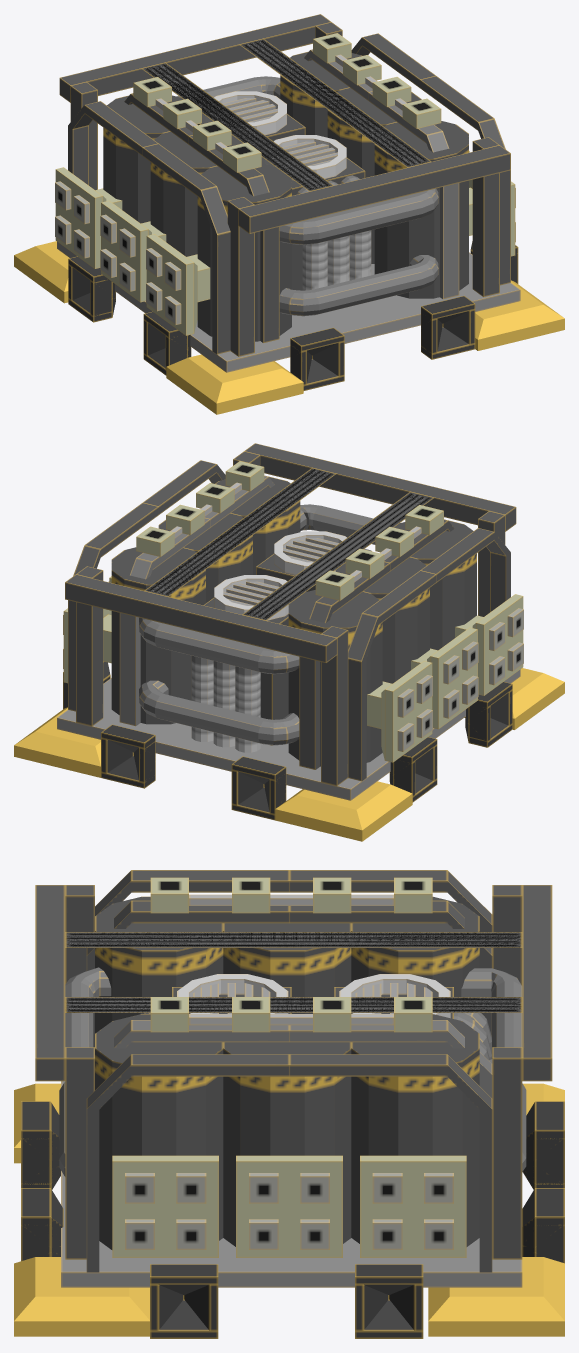
Rendered from chemical_factory.obj.
3 renders of one model, top to bottom at view 1: azimuth 30°, elevation 25°; view 2: azimuth 150°, elevation 25°; view 3: azimuth 270°, elevation 25°, orthographic. The views are drawn at different scales.
Parts seen in each view (by area): view 1: cylinder; view 2: cylinder; view 3: cylinder.
Boxes of the visible parts, x1,y1,x2,y2 form: cylinder: (14,14,564,414); cylinder: (14,443,564,841); cylinder: (14,870,564,1338).
Bounding box in the file's own units: 8.07 × 4.44 × 8.06.
